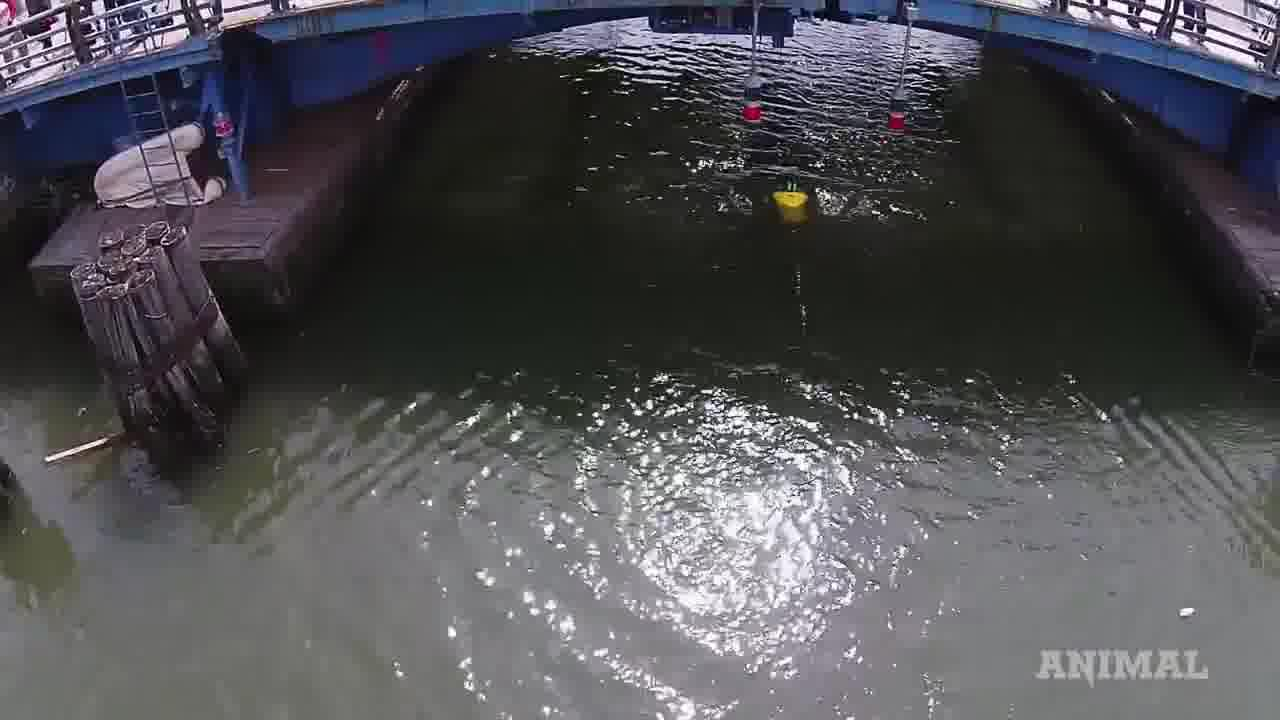swimmer: (757, 173, 821, 224)
